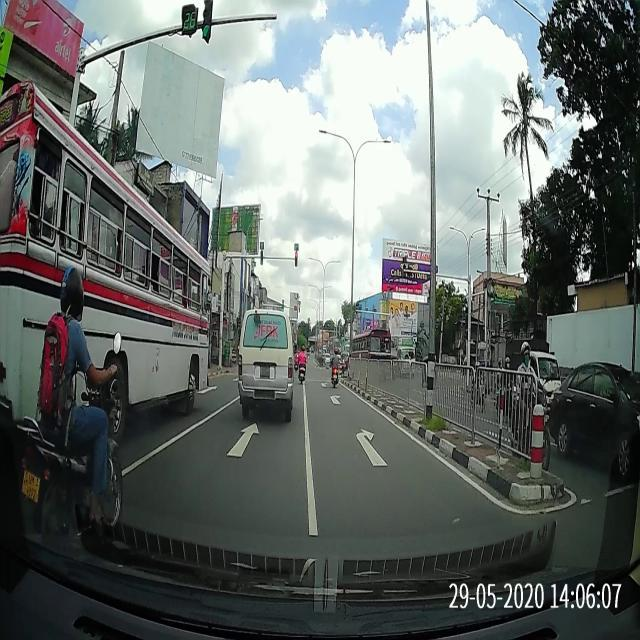forward: (148, 420, 310, 465)
